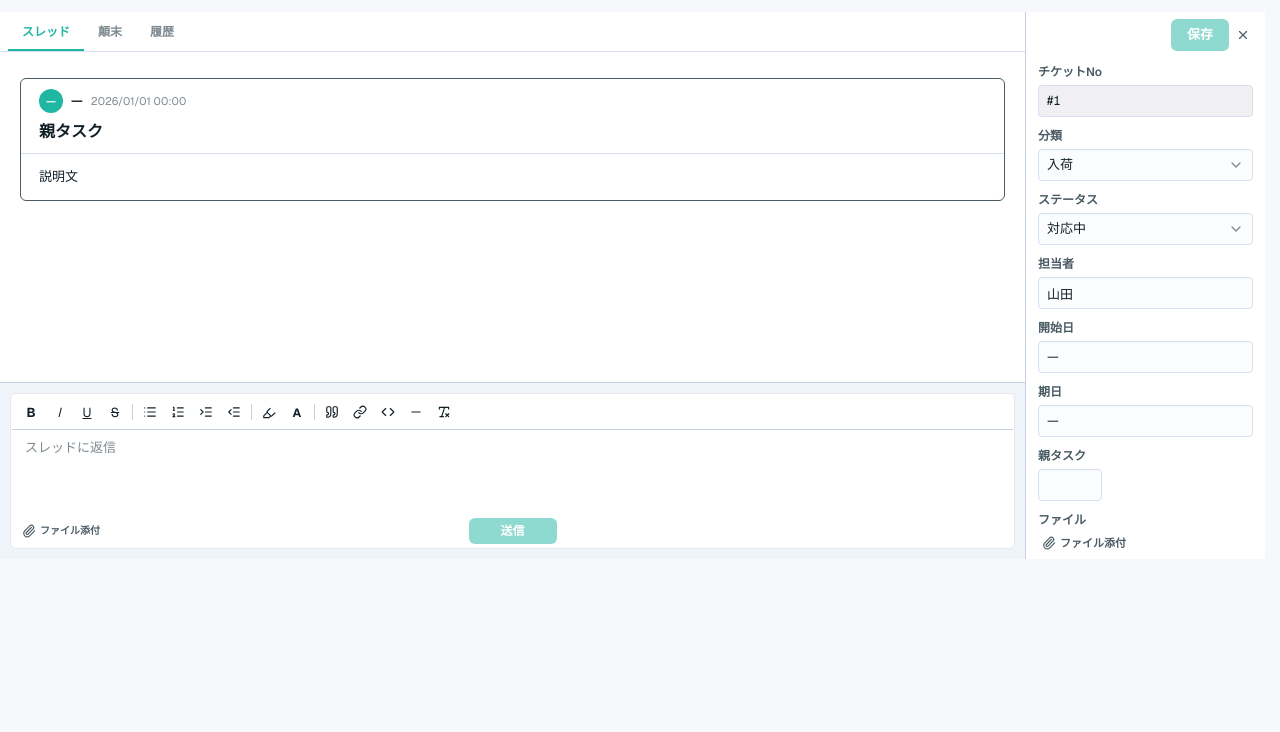
Test: TaskDetailOverlay — 顛末配線 / 完了ゲート（C-顛末） › ステータス完了かつ顛末未入力で更新すると保存をブロックし顛末タブへ誘導＋エラー表示すること
The image size is (1280, 732).
// 共通 Select（mdl-0030）の操作系に置換。
Step 1. Click the button with aria-label "ステータス" → click(1146, 229), box [1038, 213, 1253, 245]
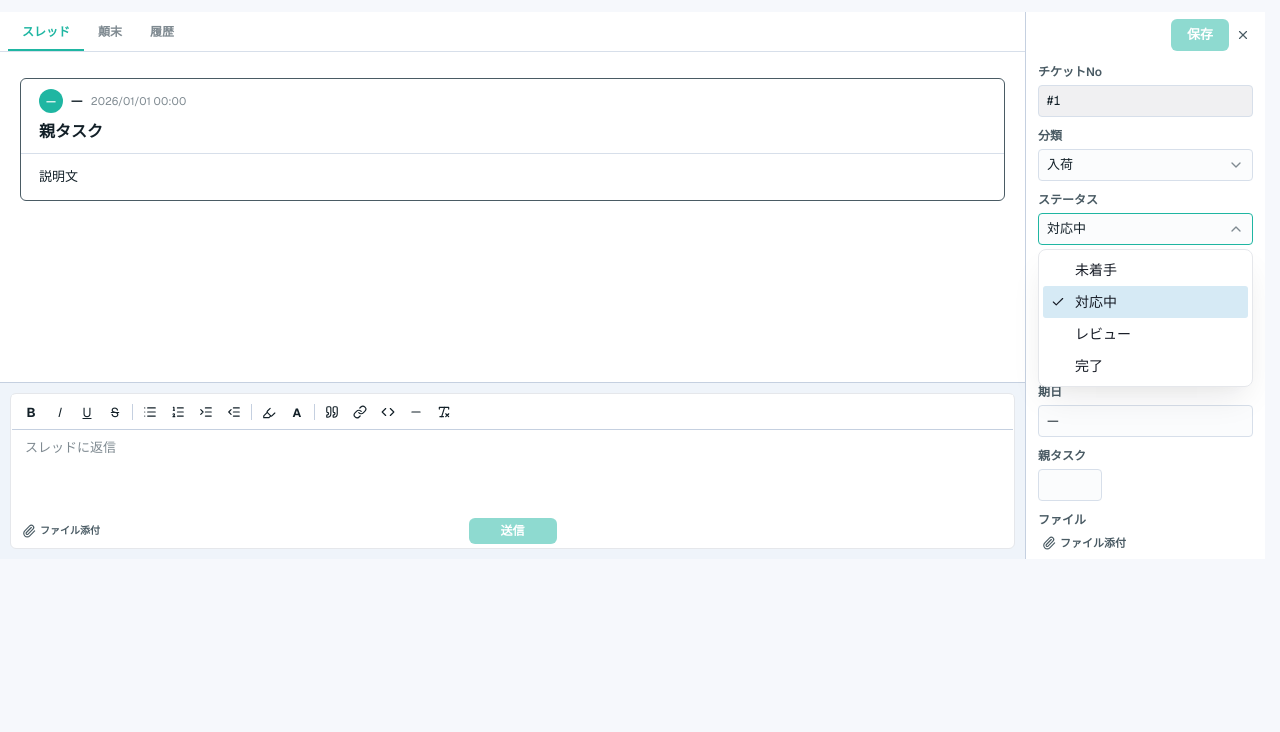
Step 2. Click the option "完了" → click(1089, 366), box [1075, 357, 1103, 375]
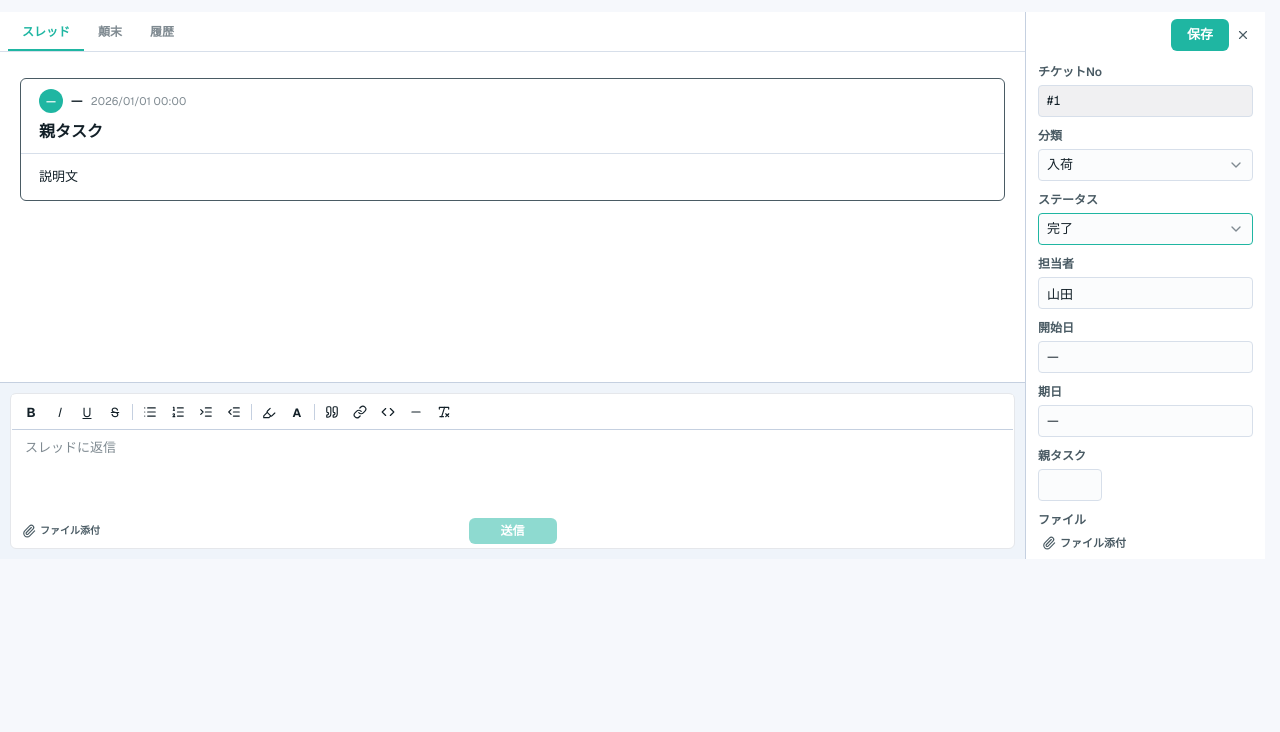
Step 3. Submit the form named "タスクフォーム", box [1026, 122, 1265, 506]
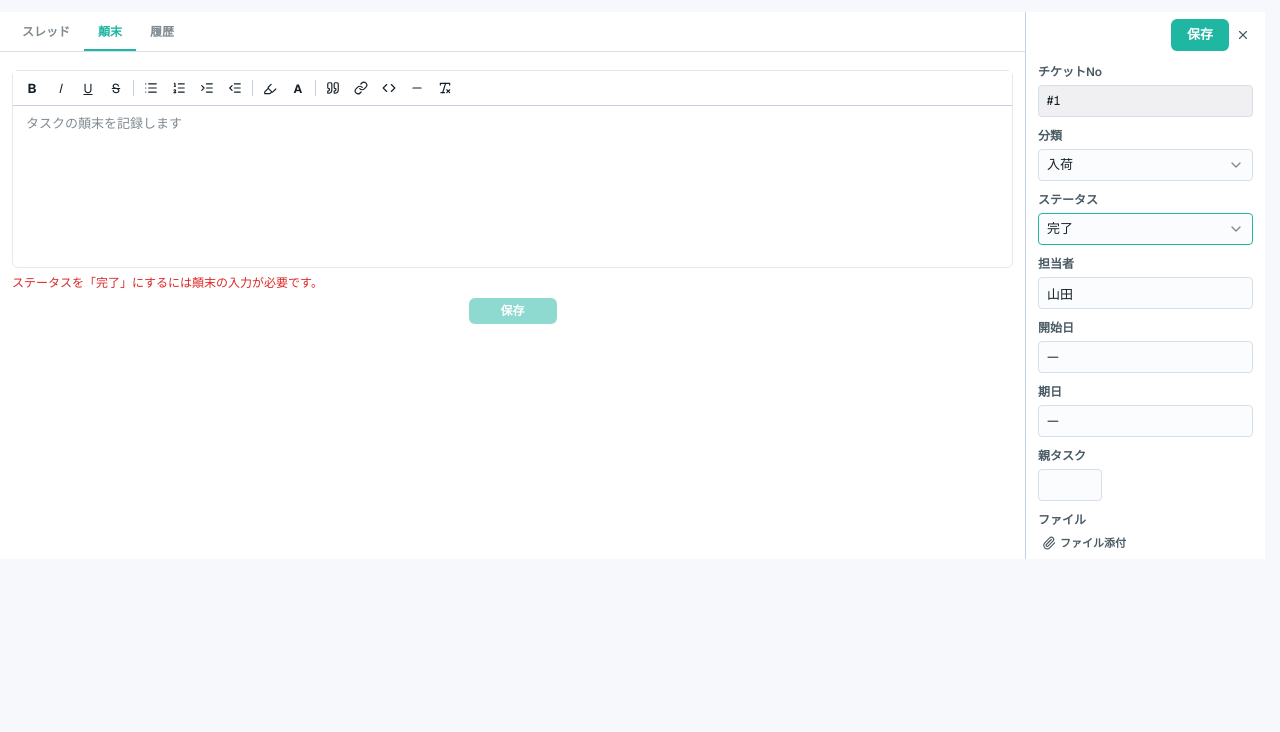
expect the message "ステータスを「完了」にするには顛末の入力が必要です。" is shown: met, box [12, 275, 323, 291]
